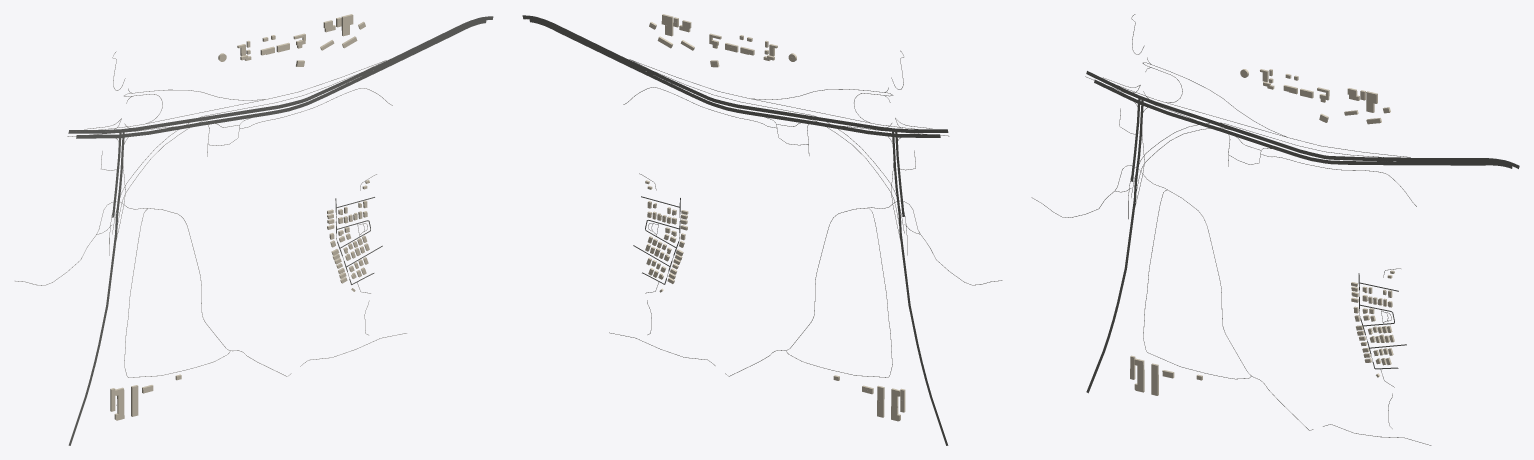
The model's file is historic-palestine-05_24_3467_3182.glb.
3 views of the same model, side by side, from view 1: azimuth 30°, elevation 25°; view 2: azimuth 150°, elevation 25°; view 3: azimuth 330°, elevation 25° (orthographic).
Parts seen in each view (by area): view 1: Road 41, Road 41.002, Road בני ברית.002; view 2: Road 41, Road 41.002, Road בני ברית.002; view 3: Road 41, Road 41.002, Road בני ברית.002.
Boxes of the visible parts, x1,y1,x2,y2 form: Road 41: (120,16,493,132); Road 41.002: (131,20,486,136); Road בני ברית.002: (68,216,117,445); Road 41: (522,15,895,132); Road 41.002: (529,18,884,135); Road בני ברית.002: (898,216,948,445); Road 41: (1139,96,1519,168); Road 41.002: (1150,105,1512,168); Road בני ברית.002: (1086,183,1136,393).
Size of the model in its own units: 1676 by 1282 by 8.7.
